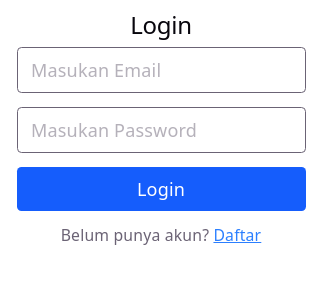
Scenario: Login › menampilkan error jika email tidak vallid
The image size is (323, 298).
Type "emailsalah" into the field with placeholder "Masukan Email". click: (161, 70)
box: [16,47,306,93]
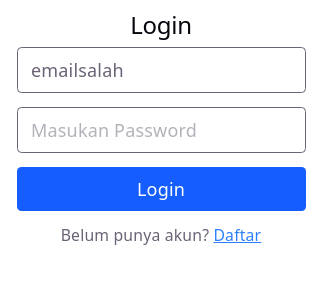
Type "123456" into the password field with placeholder "Masukan Password". click: (161, 130)
box: [16,107,306,153]
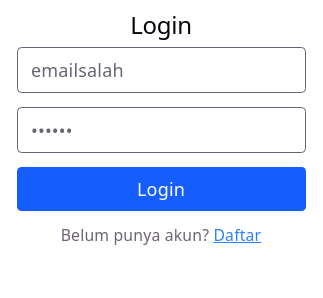
# validasi tombol login
Submit the form, box [16,47,306,247]
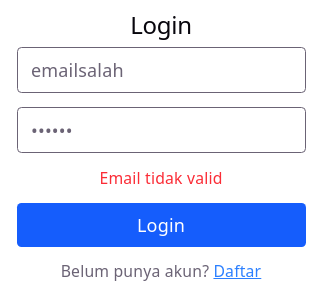
Expected: the text "Email tidak valid" is shown, [100,166,222,188]
